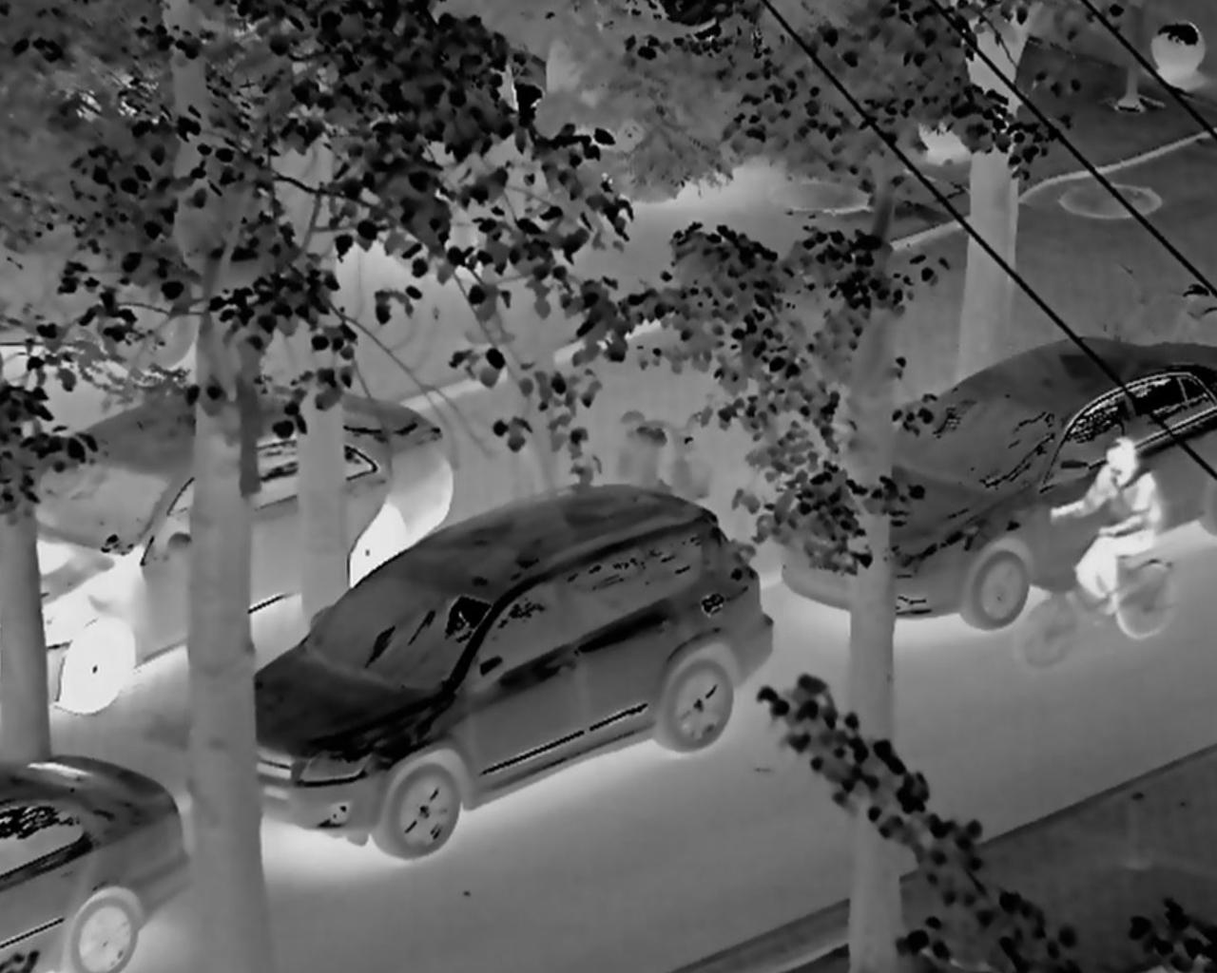person: (1056, 429, 1169, 651)
